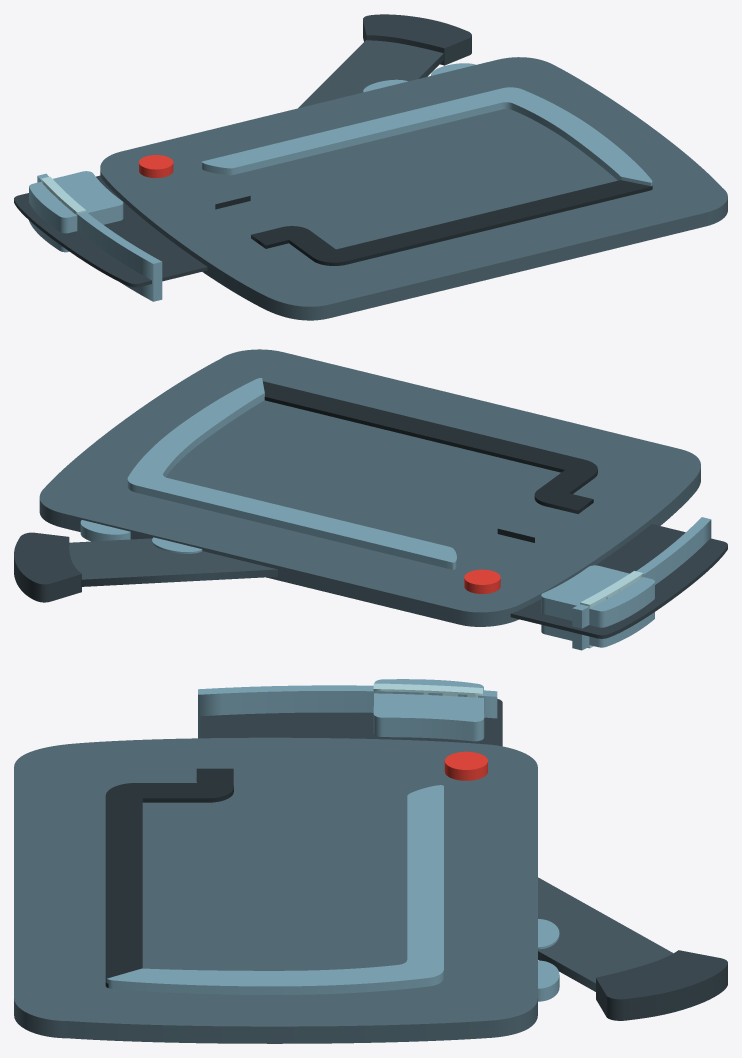
The model's file is emoji_u1f4f9.glb.
3 views of the same model, one above another, from view 1: azimuth 30°, elevation 25°; view 2: azimuth 150°, elevation 25°; view 3: azimuth 270°, elevation 25° (orthographic). The views are drawn at different scales.
Visible parts, largest first — view 1: emoji_u1f4f9; view 2: emoji_u1f4f9; view 3: emoji_u1f4f9.
Part boxes in pixels (<box>): emoji_u1f4f9: <box>14,14,727,320</box>; emoji_u1f4f9: <box>14,349,727,650</box>; emoji_u1f4f9: <box>14,679,727,1043</box>.
Size of the model in its own units: 0.0338 by 0.0024 by 0.03.
